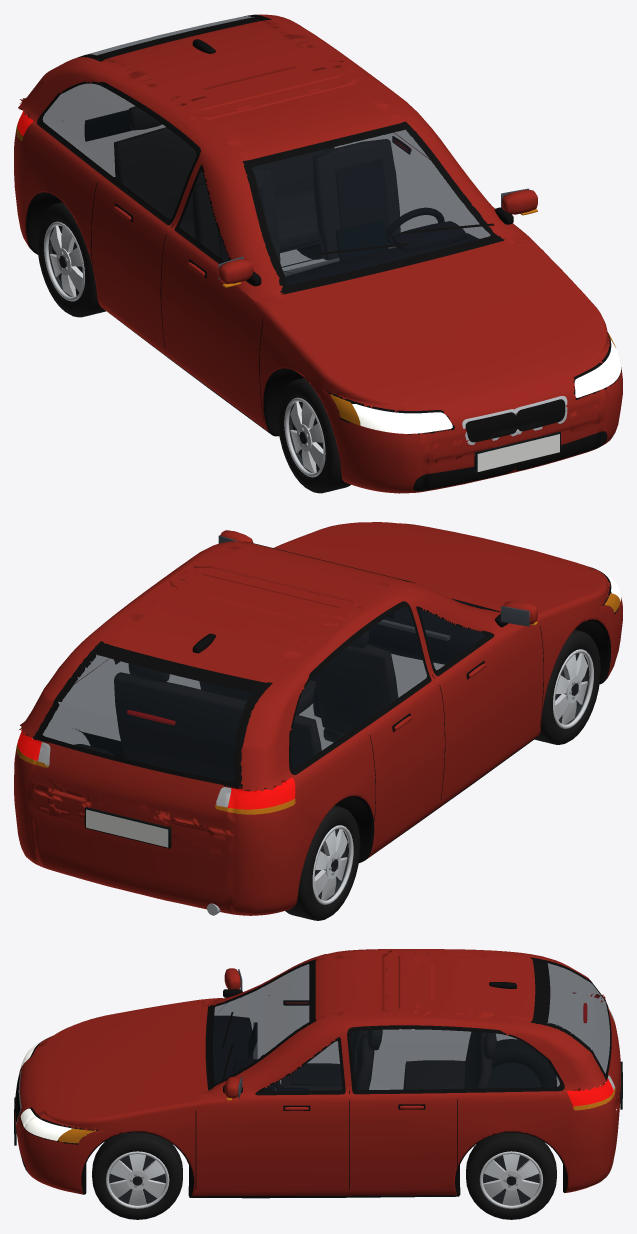
File: car_hatchback.glb
3 views of the same model, one above another, from view 1: azimuth 30°, elevation 25°; view 2: azimuth 150°, elevation 25°; view 3: azimuth 270°, elevation 25° (orthographic). The views are drawn at different scales.
Visible parts, largest first — view 1: body, glass, wheel_FR_mesh, wheel_RR_mesh, headlight, plate; view 2: body, glass, wheel_RR_mesh, wheel_FR_mesh, taillight, plate, indicator_R; view 3: body, glass, wheel_FL_mesh, wheel_RL_mesh, wheel_RR_mesh, headlight, taillight, indicator_L.
Boxes of the visible parts, left/top/right/bottom form: body: left=14, top=14, right=622, bottom=493; glass: left=42, top=16, right=491, bottom=285; wheel_FR_mesh: left=277, top=378, right=350, bottom=493; wheel_RR_mesh: left=37, top=202, right=105, bottom=317; headlight: left=352, top=340, right=621, bottom=433; plate: left=477, top=434, right=559, bottom=471; body: left=14, top=522, right=622, bottom=915; glass: left=42, top=601, right=487, bottom=781; wheel_RR_mesh: left=285, top=805, right=360, bottom=920; wheel_FR_mesh: left=534, top=629, right=600, bottom=744; taillight: left=17, top=710, right=295, bottom=809; plate: left=86, top=809, right=168, bottom=847; indicator_R: left=215, top=593, right=620, bottom=814; body: left=14, top=949, right=622, bottom=1198; glass: left=213, top=963, right=609, bottom=1090; wheel_FL_mesh: left=92, top=1132, right=182, bottom=1219; wheel_RL_mesh: left=466, top=1132, right=556, bottom=1219; wheel_RR_mesh: left=489, top=1039, right=556, bottom=1087; headlight: left=20, top=1038, right=72, bottom=1140; taillight: left=567, top=993, right=613, bottom=1106; indicator_L: left=58, top=1087, right=615, bottom=1143.
Bounding box in the file's own units: 2 × 1.46 × 4.28.
